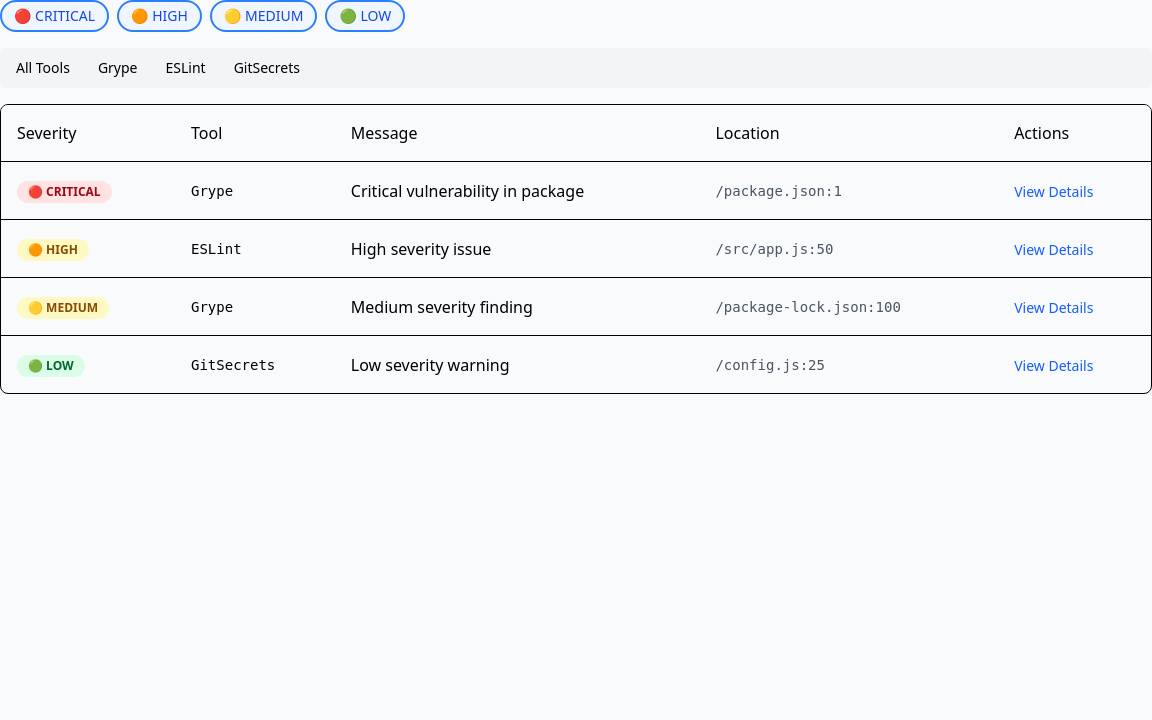
Test: FindingsTable › Modal Dialog › opens modal when "View Details" is clicked
Step 1. Click the button "View Details" in the row of "Critical vulnerability in package" → (1054, 192), box 1014,182 -> 1093,202
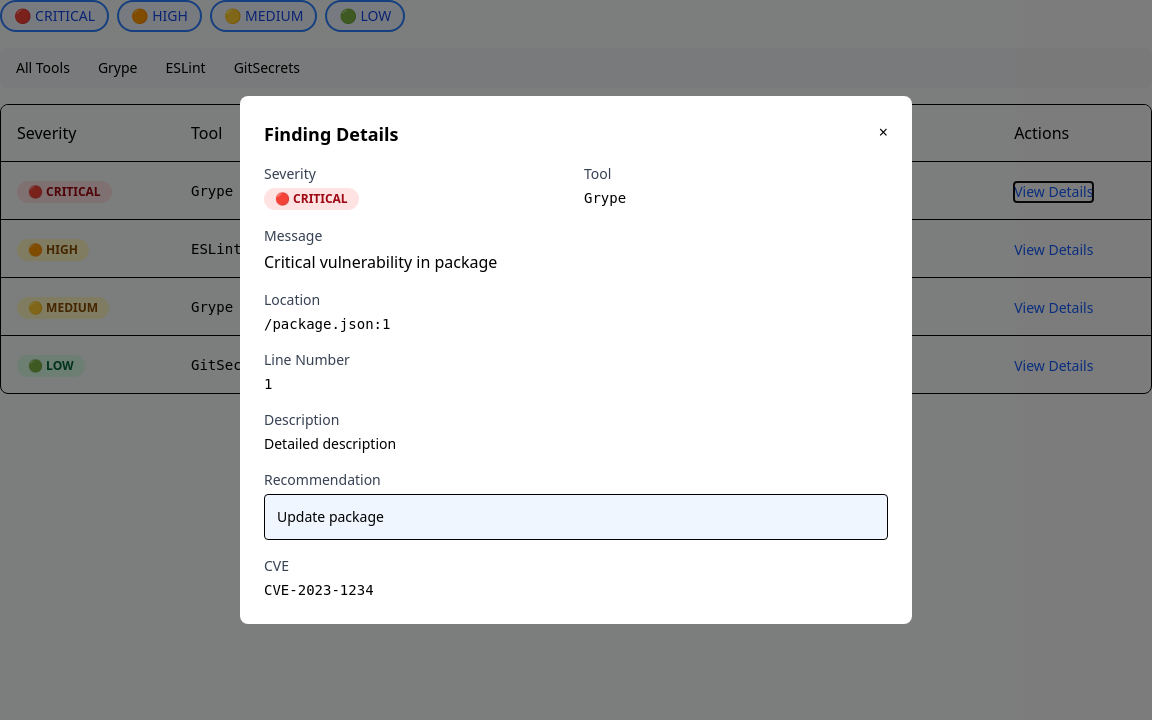
expect the heading "Finding Details" is shown: met, box 264,122 -> 399,146
